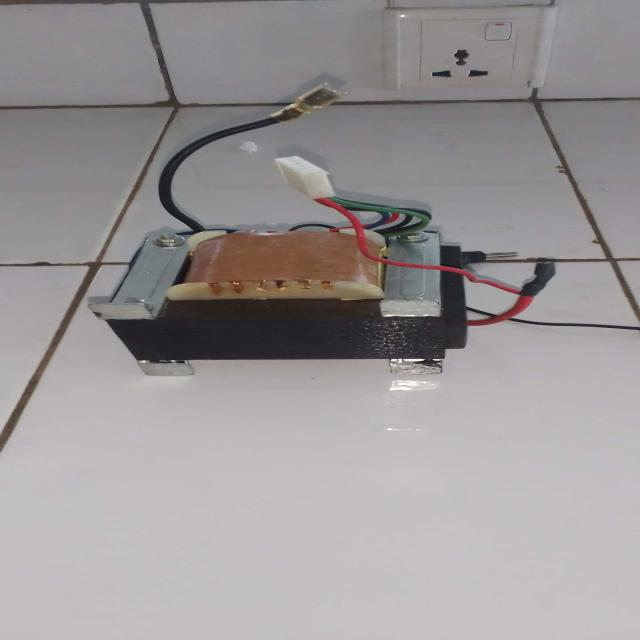Stepdown Transformer: (68, 219, 531, 372)
